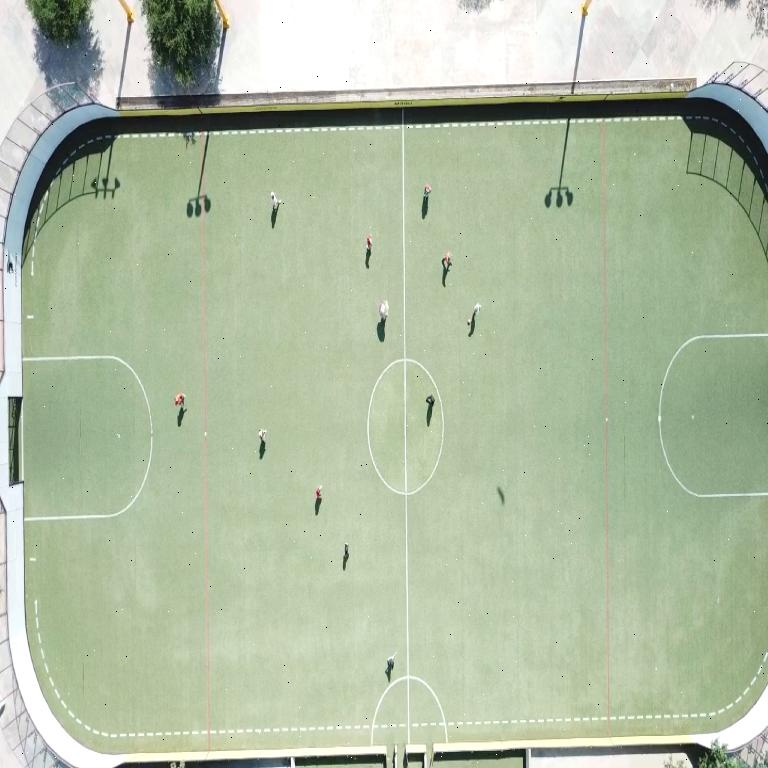AC: (23, 356, 152, 521), (658, 333, 767, 498)
B: (467, 319, 471, 324)
MC: (401, 108, 410, 743)
P: (467, 303, 479, 325), (270, 191, 280, 211), (378, 300, 387, 322), (174, 392, 184, 408), (442, 252, 450, 271), (387, 652, 395, 671), (258, 428, 267, 442), (426, 394, 434, 408), (366, 234, 371, 251), (315, 486, 321, 500), (423, 184, 429, 198), (343, 543, 348, 559)
